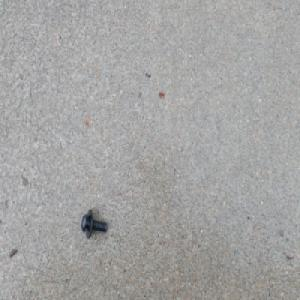BoltWasher: (80, 207, 107, 238)
